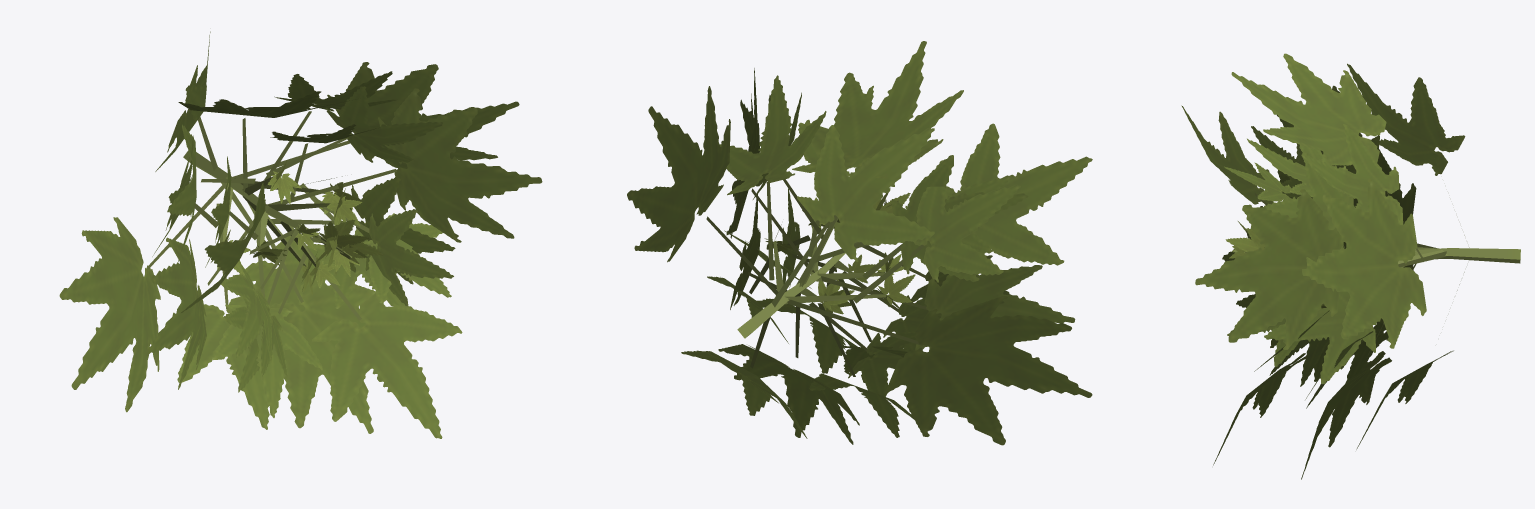
Rendered from p_tree_vegetative_c1_cards.obj.
The picture shows the model from 3 angles, left to right: view 1: azimuth 30°, elevation 25°; view 2: azimuth 150°, elevation 25°; view 3: azimuth 270°, elevation 25°; orthographic projection. The views are drawn at different scales.
Bounding box in the file's own units: 1.56 × 1.25 × 0.933.
Materials: 1 (1 with a texture image).
